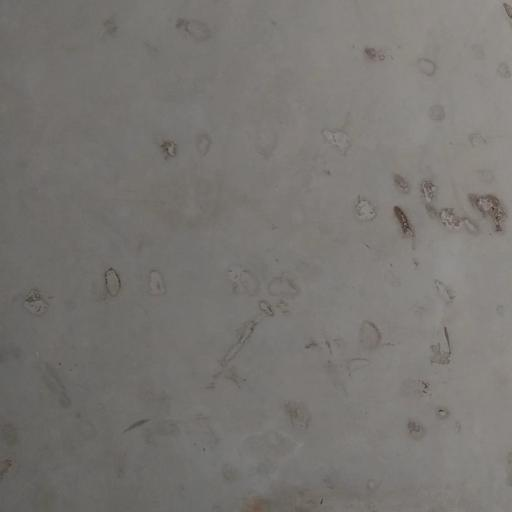stain: (54, 0, 512, 512)
